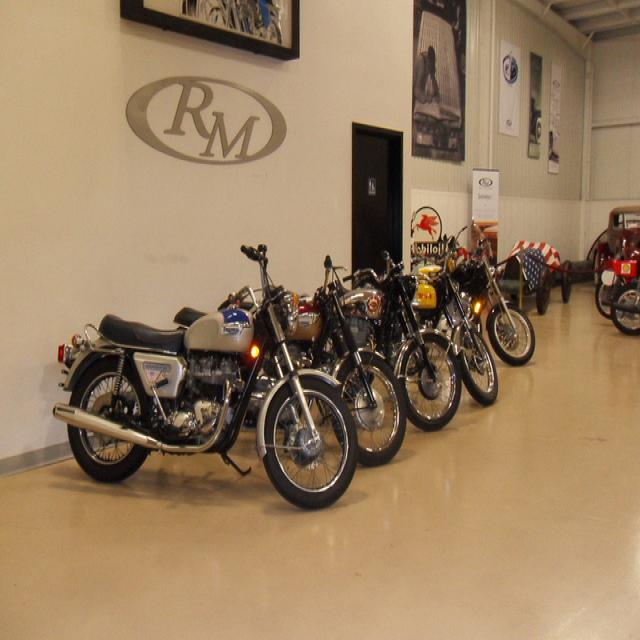motor: (54, 241, 360, 510), (171, 255, 408, 466), (341, 252, 464, 435), (403, 224, 499, 410), (451, 219, 536, 366), (594, 237, 640, 319), (600, 257, 640, 336)
